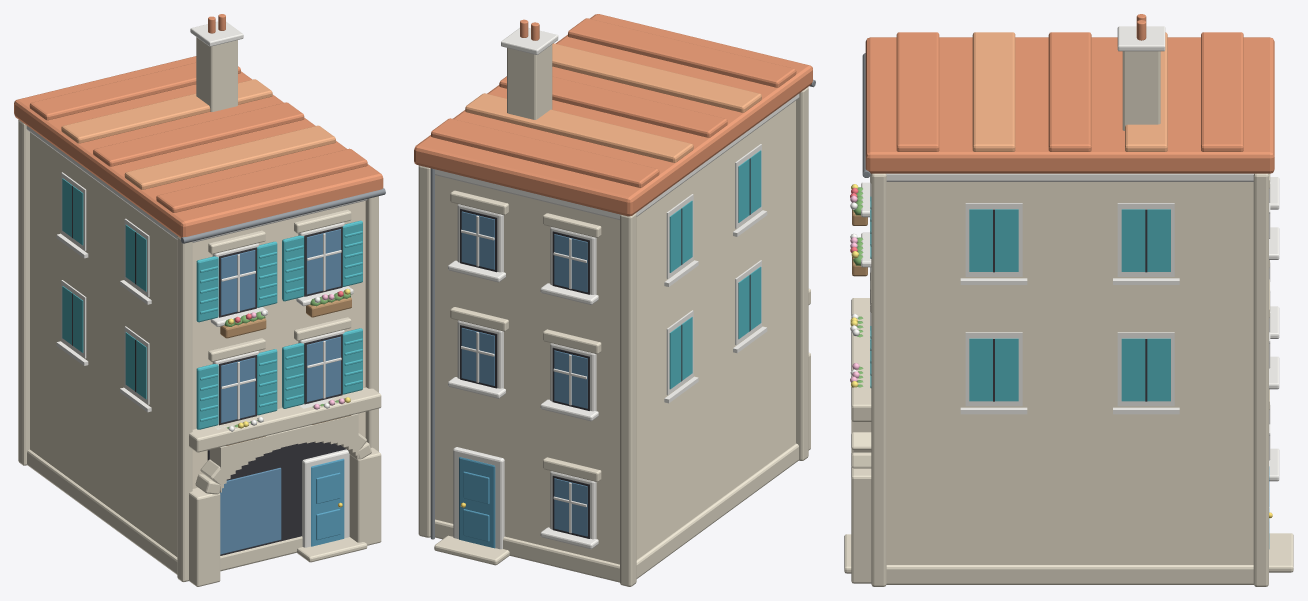
The model's file is terrace_c.fbx.
3 views of the same model, side by side, from view 1: azimuth 30°, elevation 25°; view 2: azimuth 150°, elevation 25°; view 3: azimuth 270°, elevation 25° (orthographic). The views are drawn at different scales.
Parts seen in each view (by area): view 1: Visual; view 2: Visual; view 3: Visual.
Part boxes in pixels (x1=…): Visual: x1=14, y1=14, x2=385, y2=586; Visual: x1=414, y1=14, x2=815, y2=586; Visual: x1=844, y1=14, x2=1293, y2=586.
Size of what is drawn, in the model's own units: 590 by 1256 by 945.
